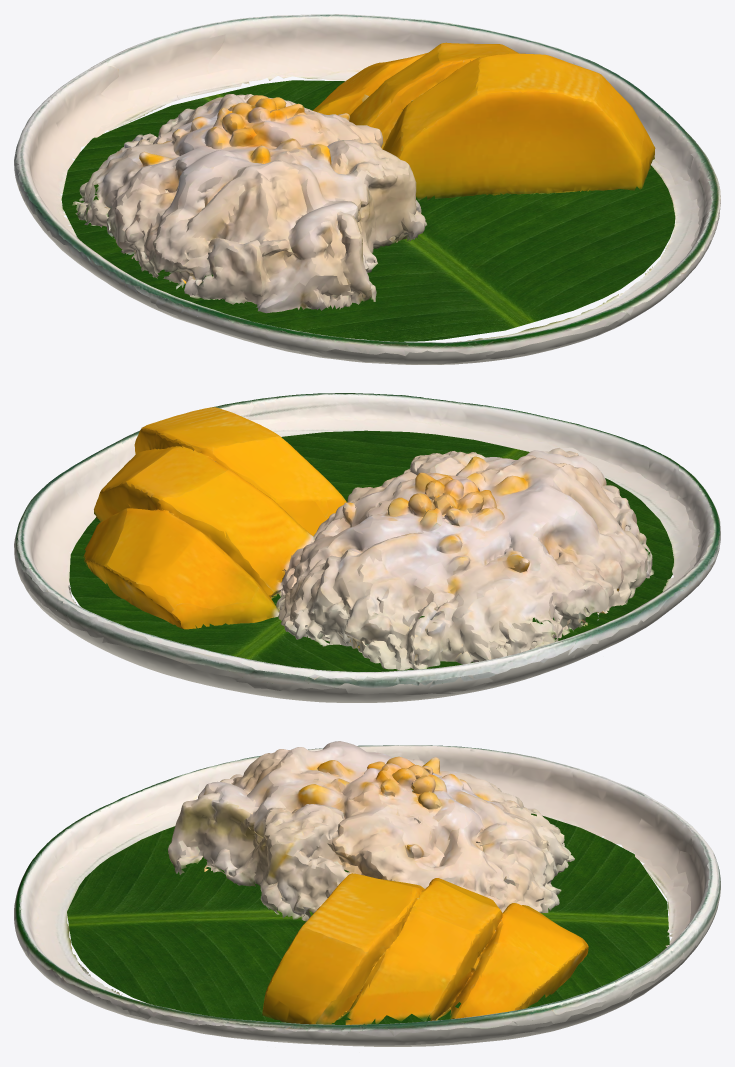
The model's file is mango-rice-1.glb.
3 renders of one model, top to bottom at view 1: azimuth 30°, elevation 25°; view 2: azimuth 150°, elevation 25°; view 3: azimuth 270°, elevation 25°, orthographic. The views are drawn at different scales.
Visible parts, largest first — view 1: food/independent-stage-1, canonical/ceramic, canonical/continuous-leaf-repair, canonical/underside; view 2: food/independent-stage-1, canonical/ceramic, canonical/continuous-leaf-repair, canonical/underside; view 3: food/independent-stage-1, canonical/continuous-leaf-repair, canonical/ceramic, canonical/underside.
Boxes of the visible parts, x1,y1,x2,y2 form: food/independent-stage-1: (72, 42, 655, 313); canonical/ceramic: (14, 14, 720, 355); canonical/continuous-leaf-repair: (61, 80, 675, 341); canonical/underside: (15, 177, 720, 364); food/independent-stage-1: (83, 407, 654, 670); canonical/ceramic: (14, 393, 720, 688); canonical/continuous-leaf-repair: (69, 430, 673, 671); canonical/underside: (14, 544, 720, 702); food/independent-stage-1: (168, 741, 588, 1024); canonical/continuous-leaf-repair: (67, 813, 669, 1024); canonical/ceramic: (14, 745, 720, 1036); canonical/underside: (16, 899, 719, 1046).
Bounding box in the file's own units: 2.47 × 0.5223 × 2.68.
Materials: 4 (3 with a texture image).
